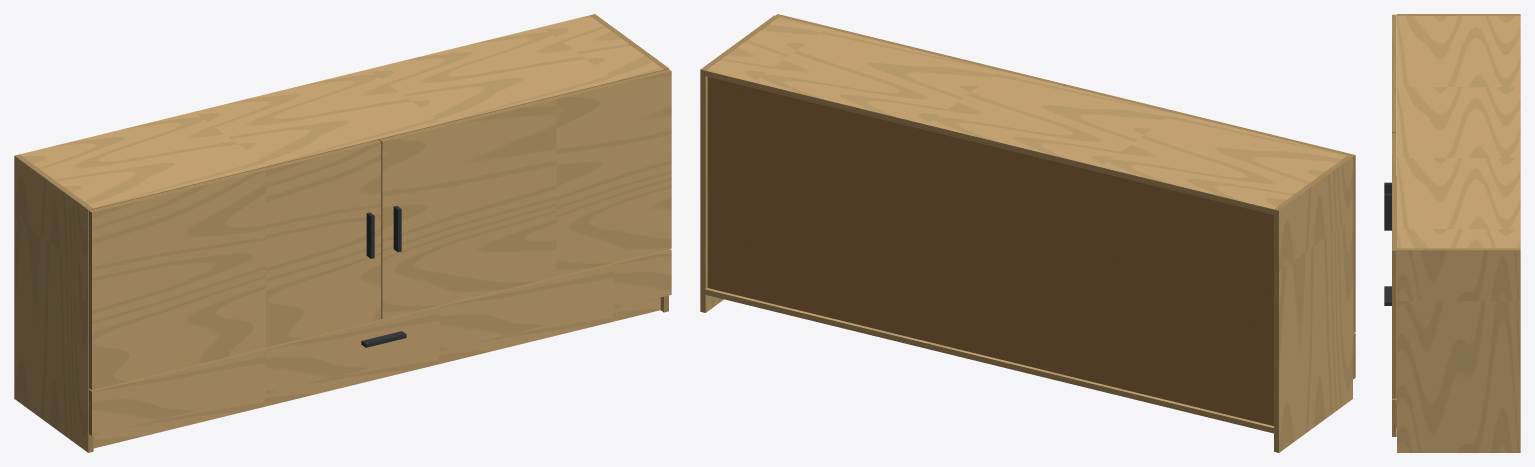
File: HIN-SDB-long.glb
3 renders of one model, left to right at view 1: azimuth 30°, elevation 25°; view 2: azimuth 150°, elevation 25°; view 3: azimuth 270°, elevation 25°, orthographic. The views are drawn at different scales.
Parts seen in each view (by area): view 1: door-r:sheet:eyJtIjoicGx5Iiwic2lkZSI6ImZhY2UiLCJzZWVkIjoxLCJ, door-l:sheet:eyJtIjoicGx5Iiwic2lkZSI6ImZhY2UiLCJzZWVkIjoyLCJ, top:sheet:eyJtIjoicGx5Iiwic2lkZSI6ImZhY2UiLCJzZWVkIjo2LCJ2ZW, d1-front:sheet:eyJtIjoicGx5Iiwic2lkZSI6ImZhY2UiLCJzZWVkIjo2L, side-l:sheet:eyJtIjoicGx5Iiwic2lkZSI6ImZhY2UiLCJzZWVkIjoxLCJ, plinth:sheet:eyJtIjoicGx5Iiwic2lkZSI6ImZhY2UiLCJzZWVkIjozLCJ, pull, d1-front:sheet:eyJtIjoicGx5Iiwic2lkZSI6ImVkZ2UtbG9uZyIsInNlZ, door-l:sheet:eyJtIjoicGx5Iiwic2lkZSI6ImVkZ2UtbG9uZyIsInNlZWQ, door-r:sheet:eyJtIjoicGx5Iiwic2lkZSI6ImVkZ2UtbG9uZyIsInNlZWQ, top:sheet:eyJtIjoicGx5Iiwic2lkZSI6ImVkZ2UtbG9uZyIsInNlZWQiOj; view 2: back:sheet:eyJtIjoibWRmIiwic2lkZSI6ImZhY2UiLCJzZWVkIjoyLCJ0a, top:sheet:eyJtIjoicGx5Iiwic2lkZSI6ImZhY2UiLCJzZWVkIjo2LCJ2ZW, side-l:sheet:eyJtIjoicGx5Iiwic2lkZSI6ImZhY2UiLCJzZWVkIjoxLCJ, bottom:sheet:eyJtIjoicGx5Iiwic2lkZSI6ImVkZ2UtbG9uZyIsInNlZWQ, top:sheet:eyJtIjoicGx5Iiwic2lkZSI6ImVkZ2UtbG9uZyIsInNlZWQiOj, side-r:sheet:eyJtIjoicGx5Iiwic2lkZSI6ImVkZ2UtbG9uZyIsInNlZWQ, bottom:sheet:eyJtIjoicGx5Iiwic2lkZSI6ImZhY2UiLCJzZWVkIjowLCJ, side-l:sheet:eyJtIjoicGx5Iiwic2lkZSI6ImVkZ2UtbG9uZyIsInNlZWQ, door-l:sheet:eyJtIjoicGx5Iiwic2lkZSI6ImVkZ2UtbG9uZyIsInNlZWQ, door-r:sheet:eyJtIjoicGx5Iiwic2lkZSI6ImVkZ2UtbG9uZyIsInNlZWQ, side-r:sheet:eyJtIjoicGx5Iiwic2lkZSI6ImZhY2UiLCJzZWVkIjozLCJ; view 3: top:sheet:eyJtIjoicGx5Iiwic2lkZSI6ImZhY2UiLCJzZWVkIjo2LCJ2ZW, side-r:sheet:eyJtIjoicGx5Iiwic2lkZSI6ImZhY2UiLCJzZWVkIjozLCJ, door-r:sheet:eyJtIjoicGx5Iiwic2lkZSI6ImVkZ2UtZW5kIiwic2VlZCI, door-l:sheet:eyJtIjoicGx5Iiwic2lkZSI6ImVkZ2UtbG9uZyIsInNlZWQ, door-r:sheet:eyJtIjoicGx5Iiwic2lkZSI6ImVkZ2UtbG9uZyIsInNlZWQ, pull, side-r:sheet:eyJtIjoicGx5Iiwic2lkZSI6ImVkZ2UtZW5kIiwic2VlZCI, side-l:sheet:eyJtIjoicGx5Iiwic2lkZSI6ImVkZ2UtZW5kIiwic2VlZCI, d1-box-front:sheet:eyJtIjoicGx5Iiwic2lkZSI6ImVkZ2UtbG9uZyIsI, d1-front:sheet:eyJtIjoicGx5Iiwic2lkZSI6ImVkZ2UtZW5kIiwic2VlZ.
Boxes of the visible parts, x1,y1,x2,y2 form: door-r:sheet:eyJtIjoicGx5Iiwic2lkZSI6ImZhY2UiLCJzZWVkIjoxLCJ: [382, 71, 671, 319]; door-l:sheet:eyJtIjoicGx5Iiwic2lkZSI6ImZhY2UiLCJzZWVkIjoyLCJ: [92, 142, 381, 389]; top:sheet:eyJtIjoicGx5Iiwic2lkZSI6ImZhY2UiLCJzZWVkIjo2LCJ2ZW: [20, 15, 663, 208]; d1-front:sheet:eyJtIjoicGx5Iiwic2lkZSI6ImZhY2UiLCJzZWVkIjo2L: [92, 250, 671, 435]; side-l:sheet:eyJtIjoicGx5Iiwic2lkZSI6ImZhY2UiLCJzZWVkIjoxLCJ: [14, 156, 88, 452]; plinth:sheet:eyJtIjoicGx5Iiwic2lkZSI6ImZhY2UiLCJzZWVkIjozLCJ: [93, 297, 660, 448]; pull: [361, 206, 406, 347]; d1-front:sheet:eyJtIjoicGx5Iiwic2lkZSI6ImVkZ2UtbG9uZyIsInNlZ: [89, 249, 671, 391]; door-l:sheet:eyJtIjoicGx5Iiwic2lkZSI6ImVkZ2UtbG9uZyIsInNlZWQ: [89, 140, 380, 212]; door-r:sheet:eyJtIjoicGx5Iiwic2lkZSI6ImVkZ2UtbG9uZyIsInNlZWQ: [380, 69, 671, 141]; top:sheet:eyJtIjoicGx5Iiwic2lkZSI6ImVkZ2UtbG9uZyIsInNlZWQiOj: [94, 69, 663, 209]; back:sheet:eyJtIjoibWRmIiwic2lkZSI6ImZhY2UiLCJzZWVkIjoyLCJ0a: [707, 77, 1273, 425]; top:sheet:eyJtIjoicGx5Iiwic2lkZSI6ImZhY2UiLCJzZWVkIjo2LCJ2ZW: [706, 17, 1347, 209]; side-l:sheet:eyJtIjoicGx5Iiwic2lkZSI6ImZhY2UiLCJzZWVkIjoxLCJ: [1279, 157, 1352, 452]; bottom:sheet:eyJtIjoicGx5Iiwic2lkZSI6ImVkZ2UtbG9uZyIsInNlZWQ: [705, 289, 1273, 433]; top:sheet:eyJtIjoicGx5Iiwic2lkZSI6ImVkZ2UtbG9uZyIsInNlZWQiOj: [705, 71, 1273, 214]; side-r:sheet:eyJtIjoicGx5Iiwic2lkZSI6ImVkZ2UtbG9uZyIsInNlZWQ: [700, 69, 705, 312]; bottom:sheet:eyJtIjoicGx5Iiwic2lkZSI6ImZhY2UiLCJzZWVkIjowLCJ: [706, 288, 1273, 427]; side-l:sheet:eyJtIjoicGx5Iiwic2lkZSI6ImVkZ2UtbG9uZyIsInNlZWQ: [1274, 209, 1278, 452]; door-l:sheet:eyJtIjoicGx5Iiwic2lkZSI6ImVkZ2UtbG9uZyIsInNlZWQ: [1065, 84, 1354, 156]; door-r:sheet:eyJtIjoicGx5Iiwic2lkZSI6ImVkZ2UtbG9uZyIsInNlZWQ: [775, 14, 1065, 85]; side-r:sheet:eyJtIjoicGx5Iiwic2lkZSI6ImZhY2UiLCJzZWVkIjozLCJ: [705, 76, 723, 312]; top:sheet:eyJtIjoicGx5Iiwic2lkZSI6ImZhY2UiLCJzZWVkIjo2LCJ2ZW: [1397, 16, 1520, 248]; side-r:sheet:eyJtIjoicGx5Iiwic2lkZSI6ImZhY2UiLCJzZWVkIjozLCJ: [1397, 250, 1520, 452]; door-r:sheet:eyJtIjoicGx5Iiwic2lkZSI6ImVkZ2UtZW5kIiwic2VlZCI: [1392, 250, 1396, 398]; door-l:sheet:eyJtIjoicGx5Iiwic2lkZSI6ImVkZ2UtbG9uZyIsInNlZWQ: [1392, 14, 1396, 132]; door-r:sheet:eyJtIjoicGx5Iiwic2lkZSI6ImVkZ2UtbG9uZyIsInNlZWQ: [1392, 133, 1396, 250]; pull: [1384, 182, 1391, 305]; side-r:sheet:eyJtIjoicGx5Iiwic2lkZSI6ImVkZ2UtZW5kIiwic2VlZCI: [1397, 248, 1520, 250]; side-l:sheet:eyJtIjoicGx5Iiwic2lkZSI6ImVkZ2UtZW5kIiwic2VlZCI: [1397, 14, 1520, 15]; d1-box-front:sheet:eyJtIjoicGx5Iiwic2lkZSI6ImVkZ2UtbG9uZyIsI: [1396, 178, 1396, 402]; d1-front:sheet:eyJtIjoicGx5Iiwic2lkZSI6ImVkZ2UtZW5kIiwic2VlZ: [1392, 400, 1396, 436].
Size of the model in its own units: 2 by 0.8 by 0.4869.
55 materials, 54 textured.
